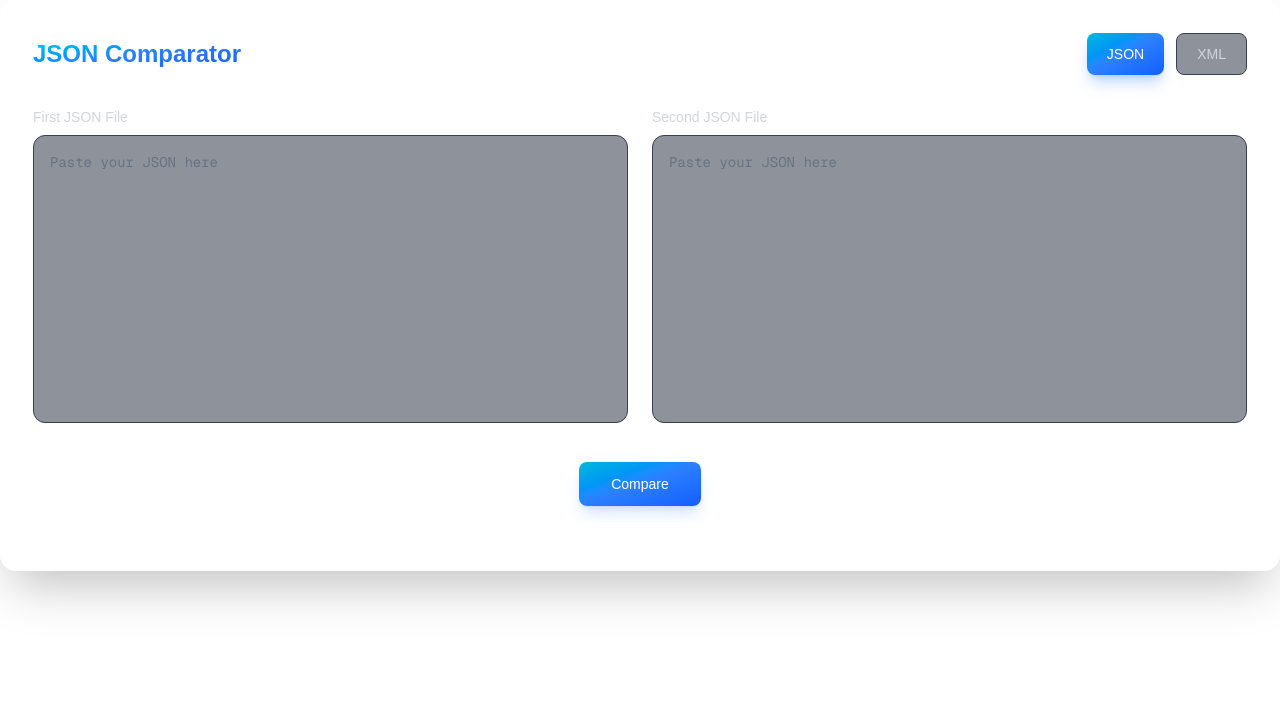
Test: Comparator › handles invalid XML input
Click the button "XML".
click(1212, 54)  # box [1176,33,1247,75]
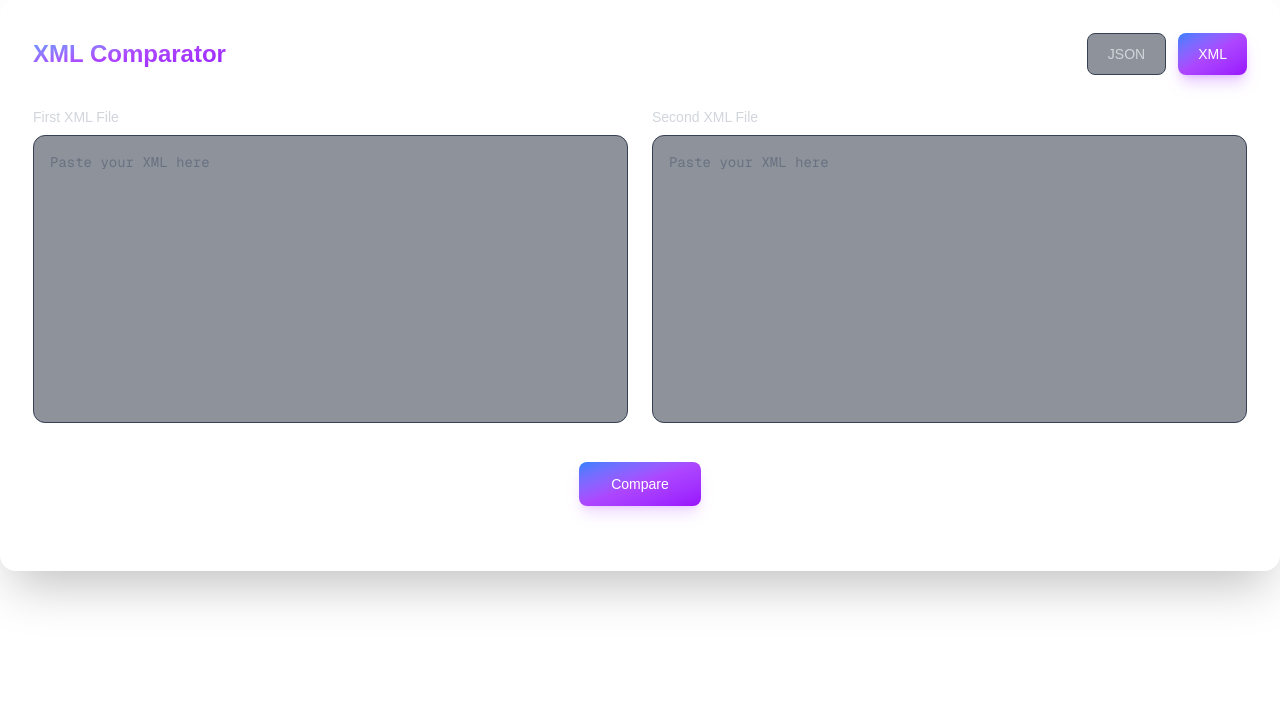
Type "invalid xml" into the text box labelled "First XML File".
click(330, 279); type("invalid xml")  # box [33,135,628,423]
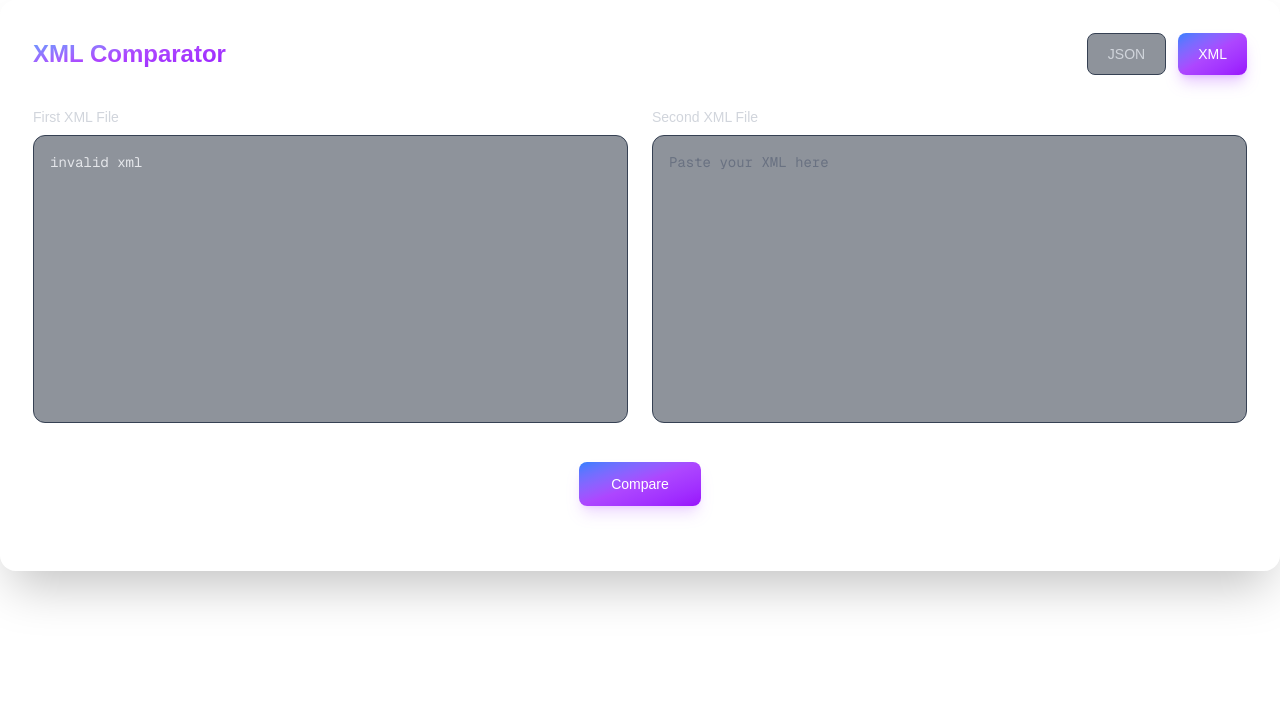
Type "<root><test>value2</test></root>" into the text box labelled "Second XML File".
click(950, 279); type("<root><test>value2</test></root>")  # box [652,135,1247,423]
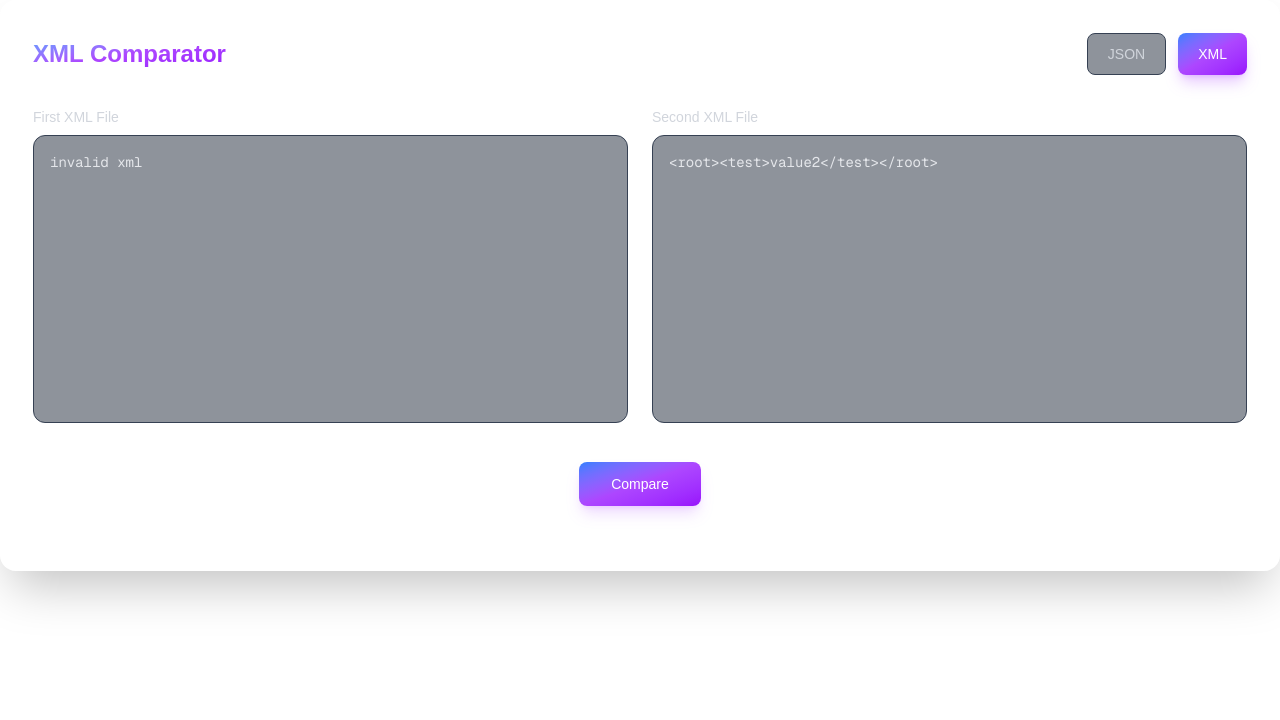
Click the button "Compare".
click(640, 484)  # box [579,462,701,506]
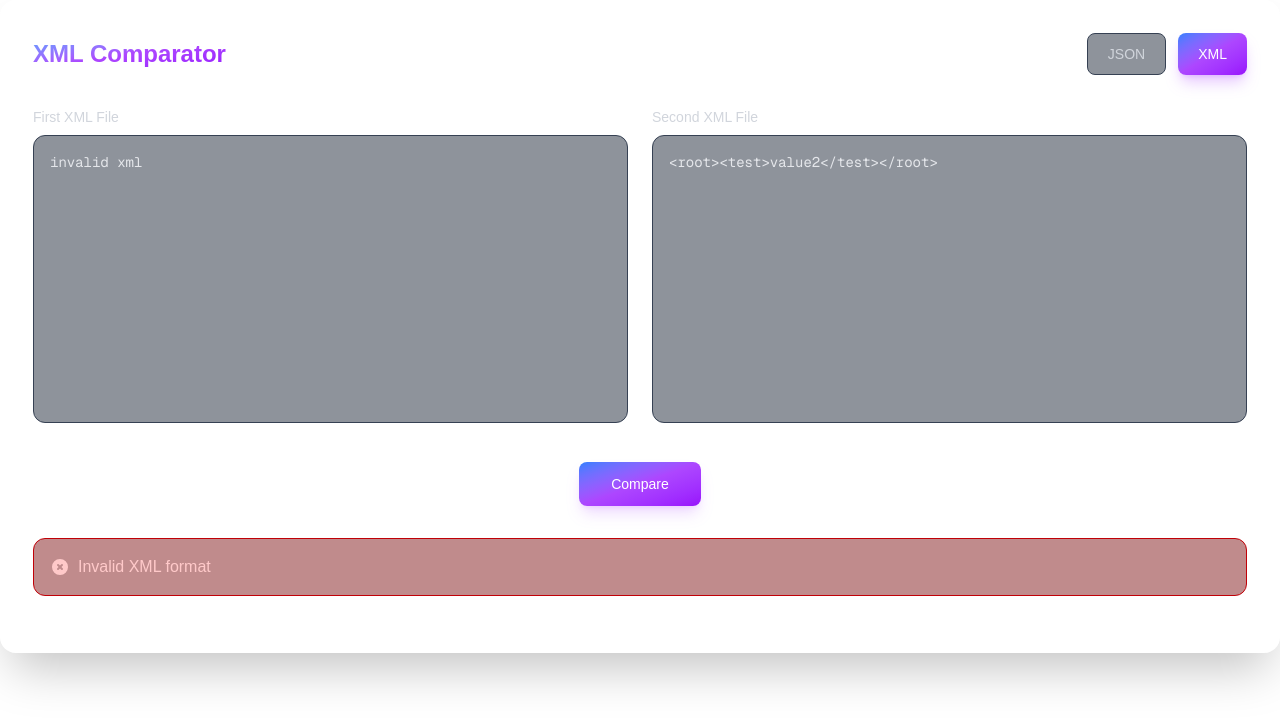
Expected: the text "Invalid XML format" is shown, [50,557,211,577]
